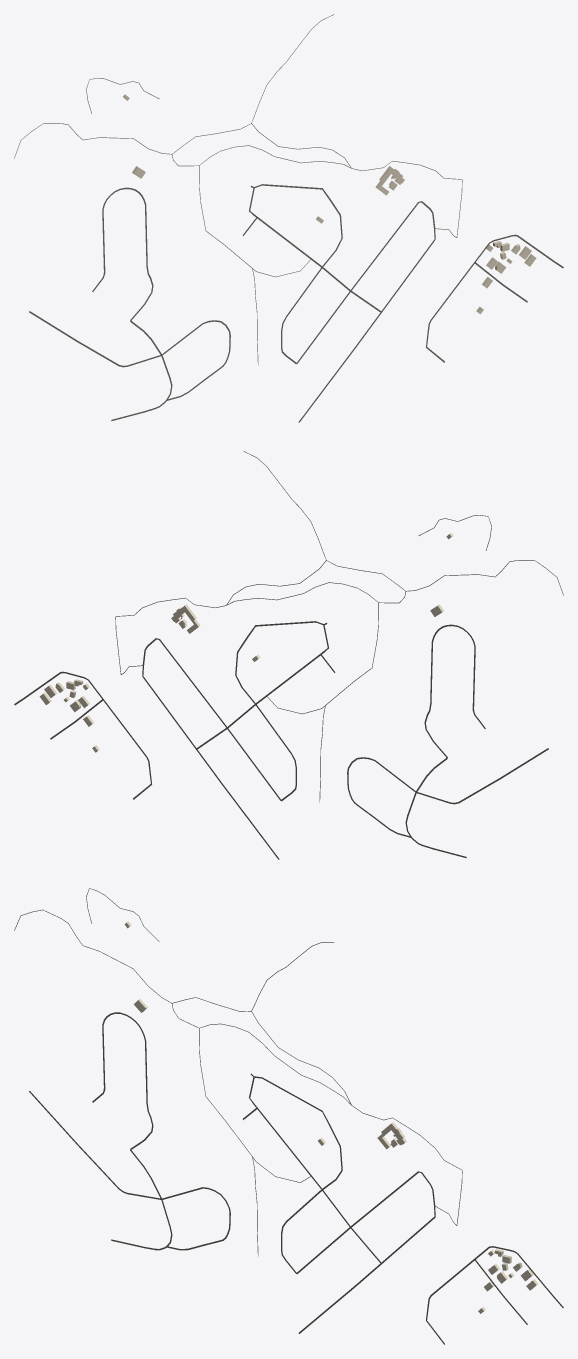
File: historic-palestine-06_20_3476_3140.glb
3 views of the same model, one above another, from view 1: azimuth 30°, elevation 25°; view 2: azimuth 150°, elevation 25°; view 3: azimuth 330°, elevation 25° (orthographic).
Visible parts, largest first — view 1: Road, Road .003, Road .009, Road .005; view 2: Road, Road .003, Road .009, Road .005; view 3: Road .003, Road, Road .009.
Part boxes in pixels (left/top/right/bottom): Road: left=298, top=201, right=435, bottom=422; Road .003: left=29, top=311, right=230, bottom=400; Road .009: left=199, top=145, right=462, bottom=277; Road .005: left=92, top=187, right=153, bottom=320; Road: left=142, top=638, right=279, bottom=859; Road .003: left=347, top=748, right=548, bottom=837; Road .009: left=115, top=582, right=378, bottom=714; Road .005: left=424, top=624, right=485, bottom=757; Road .003: left=29, top=1091, right=230, bottom=1250; Road: left=298, top=1171, right=435, bottom=1333; Road .009: left=199, top=1023, right=462, bottom=1225.
Bounding box in the file's own units: 1251 × 870 × 8.7.
